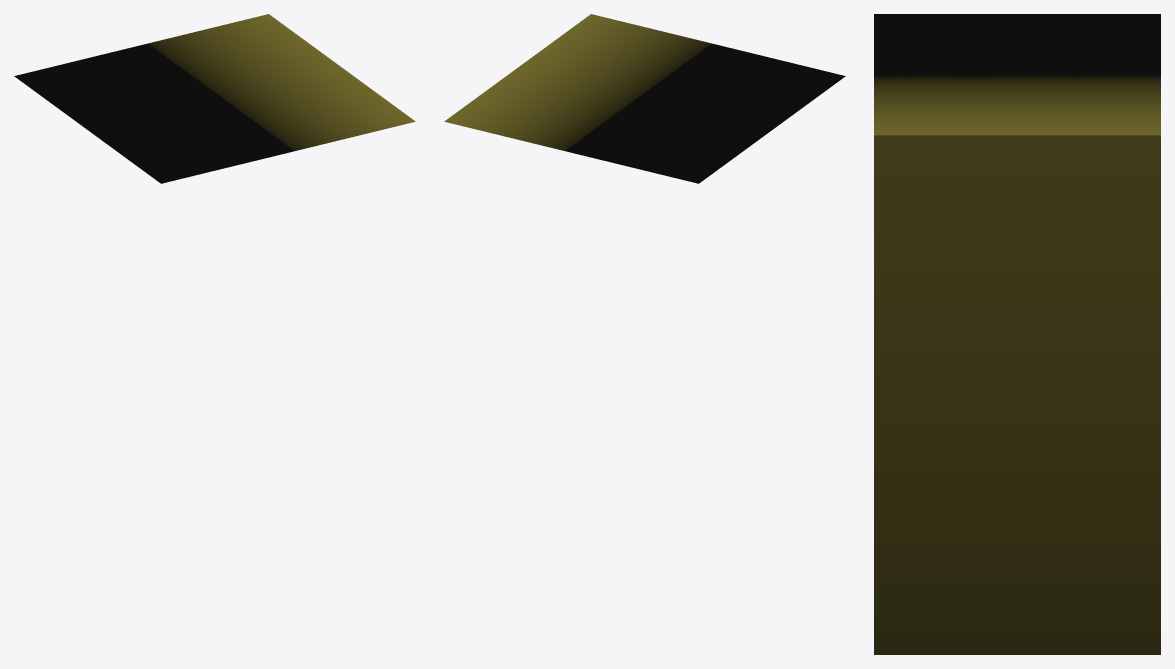
3 renders of one model, left to right at view 1: azimuth 30°, elevation 25°; view 2: azimuth 150°, elevation 25°; view 3: azimuth 270°, elevation 25°, orthographic. The views are drawn at different scales.
Size of the model in its own units: 1 by 2 by 1.
1 material, 1 textured.
